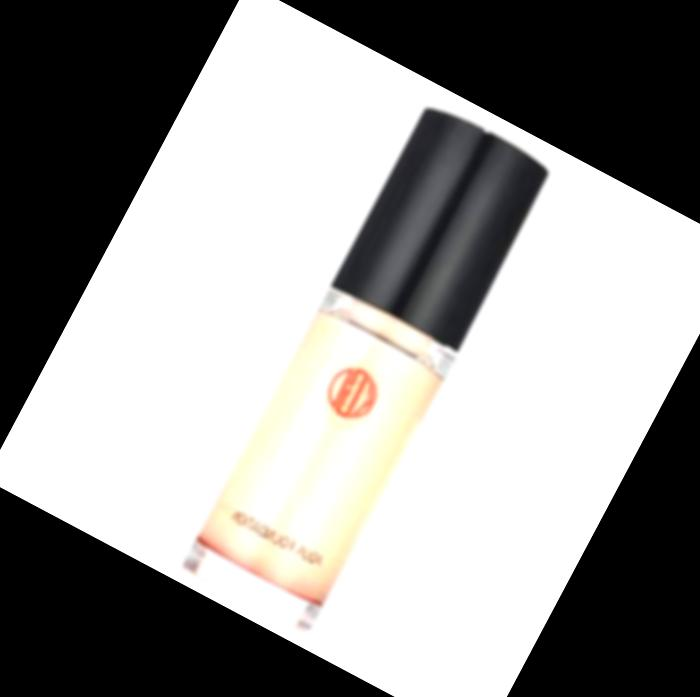cosmetic: (174, 98, 557, 639)
